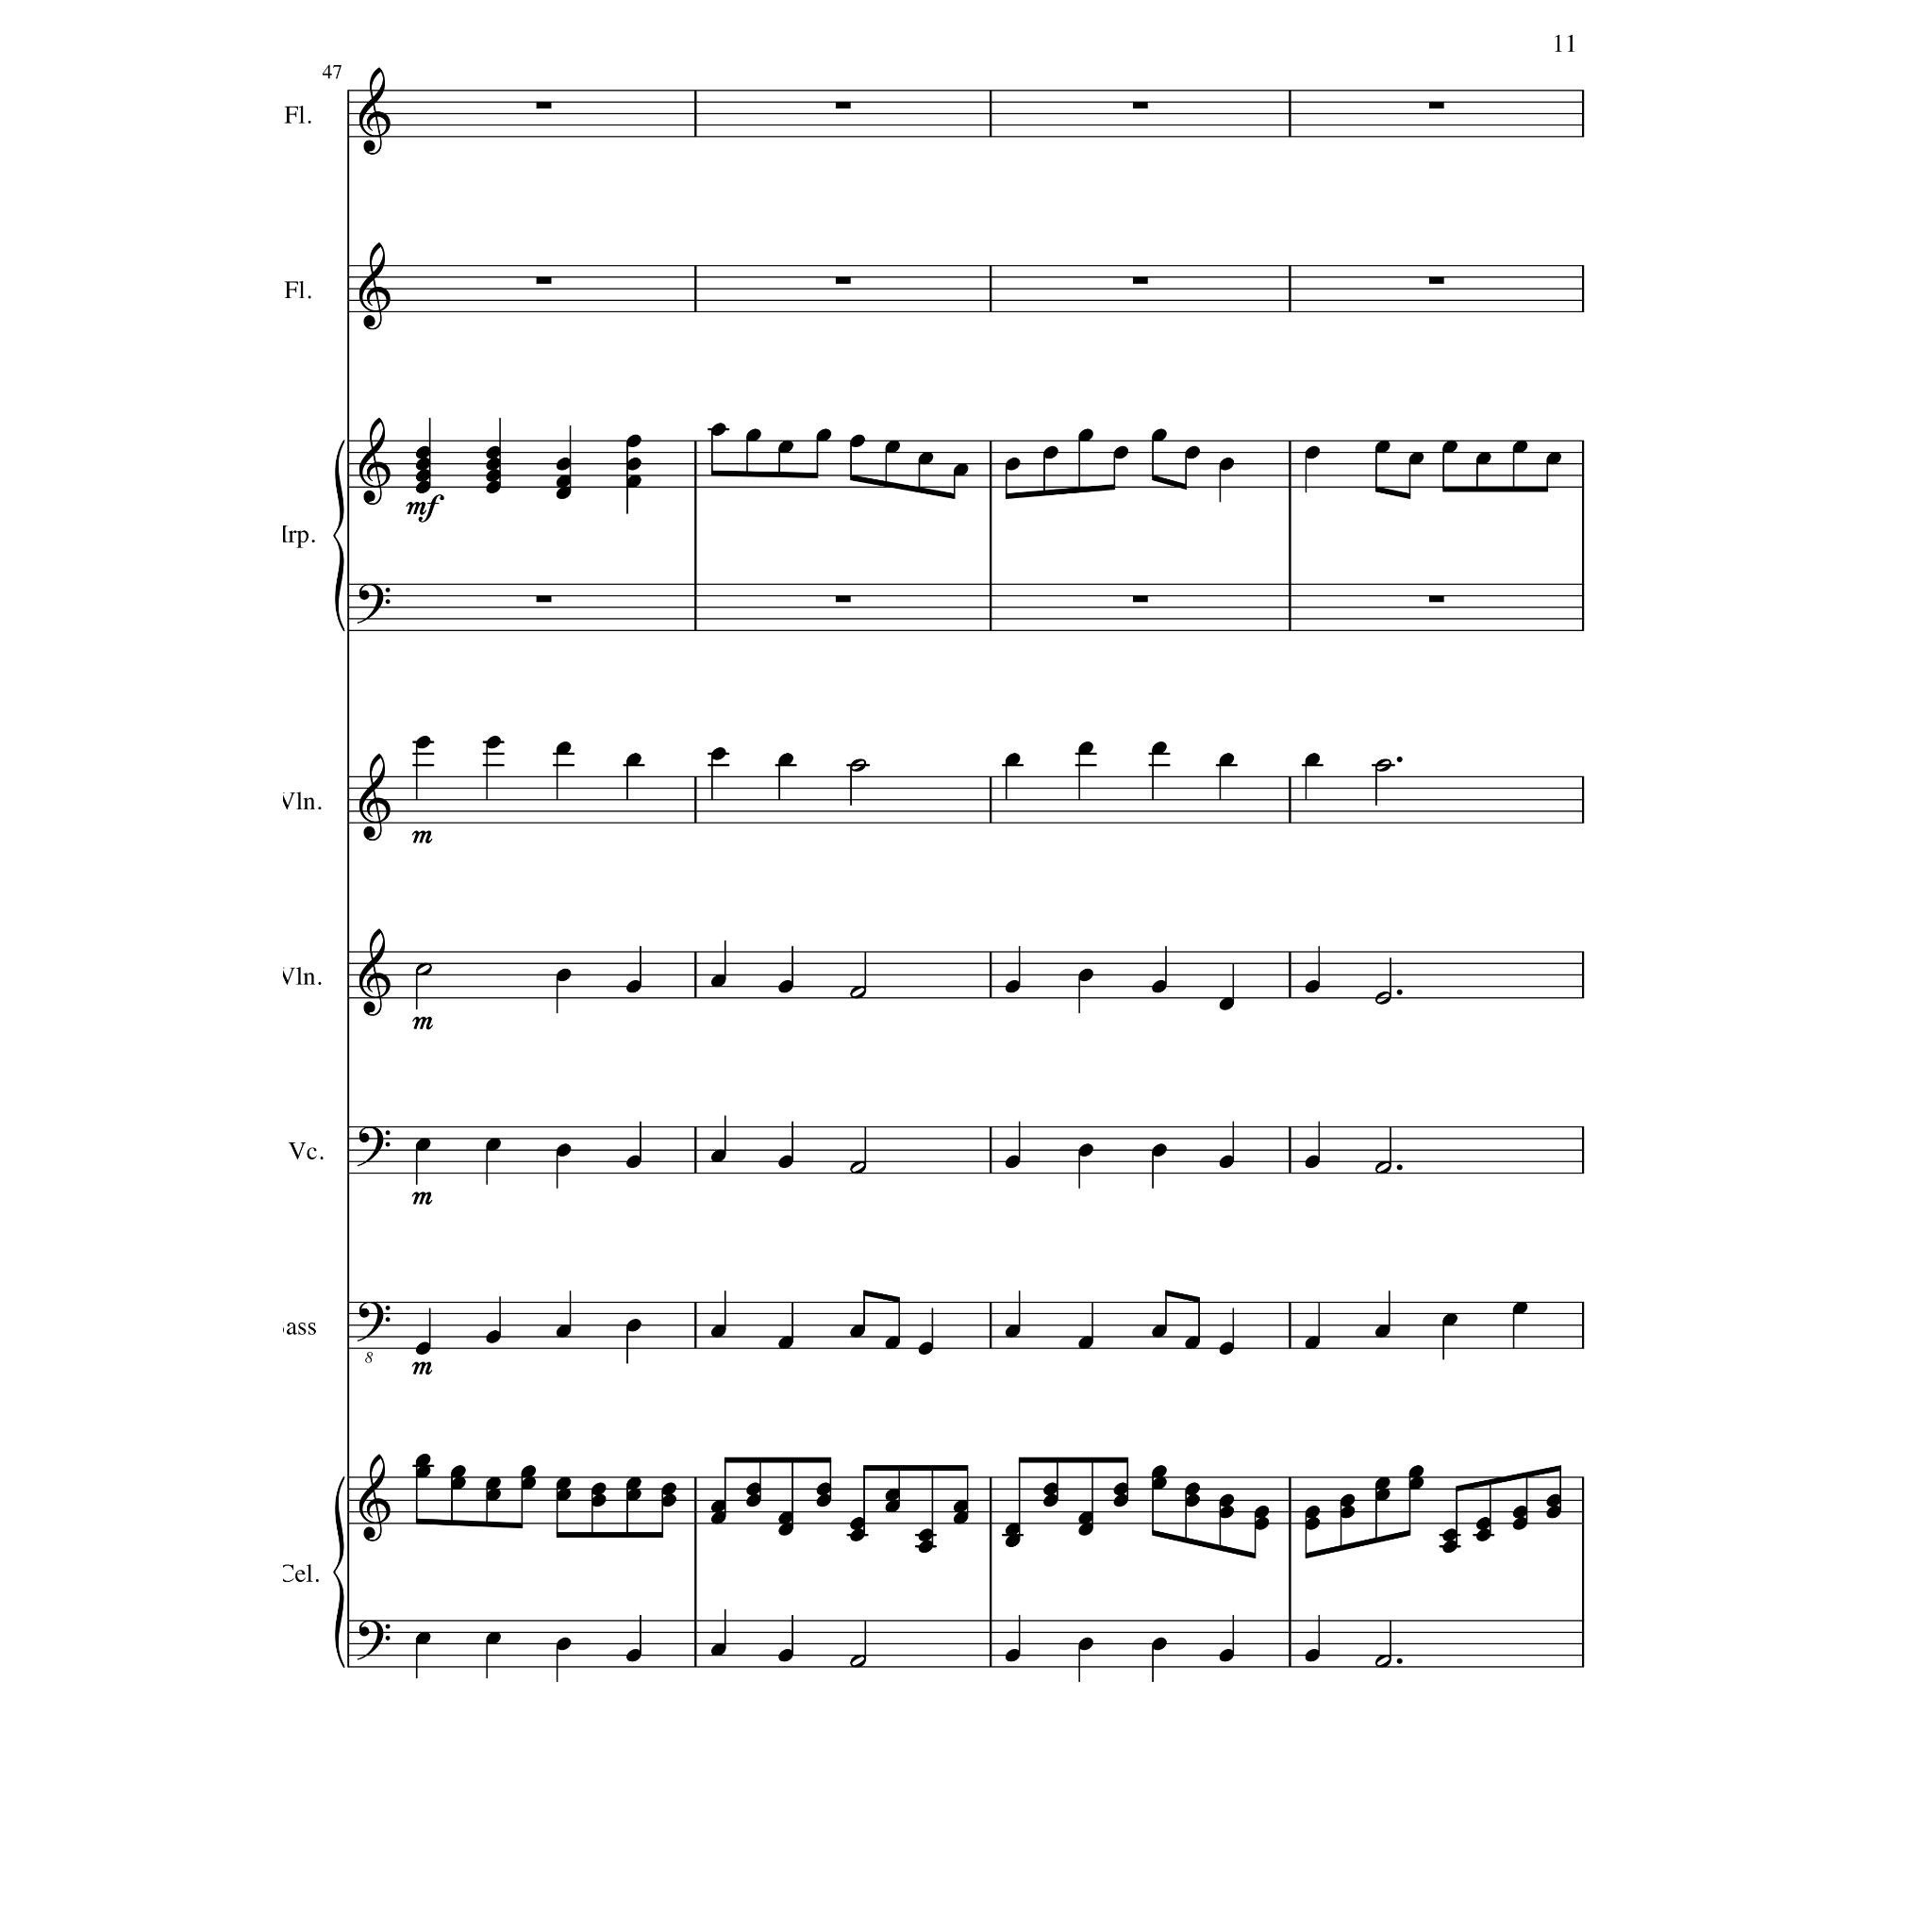brace: (332, 440, 345, 632), (332, 1476, 345, 1669)
fClef: (357, 1126, 391, 1168), (357, 583, 391, 625), (357, 1621, 391, 1660), (357, 1302, 391, 1341)
gClef: (358, 1454, 391, 1542), (358, 67, 391, 156), (358, 242, 391, 331), (358, 417, 391, 506), (358, 753, 391, 841), (358, 928, 391, 1017)
noteheadBlack: (1545, 451, 1562, 466), (1407, 451, 1424, 466), (709, 974, 726, 989), (709, 423, 726, 438), (917, 451, 934, 466), (1475, 451, 1491, 466), (1151, 429, 1168, 442), (1304, 446, 1321, 459), (1304, 753, 1321, 766), (1304, 980, 1321, 993), (1304, 1156, 1321, 1169), (1304, 1336, 1321, 1349), (1304, 1517, 1321, 1530), (1304, 1506, 1321, 1519), (1304, 1649, 1321, 1662), (1041, 446, 1058, 459), (1041, 1494, 1058, 1507), (1041, 1482, 1058, 1495), (1151, 741, 1168, 755), (1151, 980, 1168, 993), (1151, 1143, 1168, 1157), (1151, 1324, 1168, 1338), (1151, 1476, 1168, 1490), (1151, 1465, 1168, 1478), (1077, 429, 1094, 442), (1077, 741, 1094, 755), (1077, 969, 1094, 982), (1077, 1143, 1094, 1157), (1077, 1336, 1094, 1349), (1077, 1523, 1094, 1536), (1077, 1511, 1094, 1524), (1077, 1638, 1094, 1651), (1151, 1638, 1168, 1651), (1545, 1494, 1562, 1507), (1545, 1506, 1562, 1519), (1511, 441, 1528, 454), (1511, 1302, 1528, 1315), (1511, 1517, 1528, 1530), (1511, 1506, 1528, 1519), (1374, 441, 1391, 454), (1407, 1465, 1424, 1478), (1407, 1476, 1424, 1490), (1441, 441, 1458, 454), (1441, 1313, 1458, 1326), (1441, 1540, 1458, 1553), (1441, 1528, 1458, 1541), (1374, 1324, 1391, 1338), (1374, 1489, 1391, 1502), (1374, 1476, 1391, 1490), (625, 475, 641, 488), (625, 458, 641, 471), (625, 435, 641, 448), (555, 487, 572, 500), (555, 475, 572, 488), (555, 458, 572, 471), (555, 741, 572, 755), (555, 969, 572, 982), (555, 1143, 572, 1157), (555, 1324, 572, 1338), (555, 1489, 572, 1502), (555, 1476, 572, 1490), (555, 1638, 572, 1651), (709, 1324, 726, 1338), (709, 1149, 726, 1162), (709, 747, 726, 760), (709, 1511, 726, 1524), (660, 1482, 677, 1495), (660, 1494, 677, 1507), (709, 1500, 726, 1513), (709, 1643, 726, 1657), (625, 753, 641, 766), (625, 980, 641, 993), (625, 1156, 641, 1169), (625, 1319, 641, 1332), (625, 1489, 641, 1502), (625, 1476, 641, 1490), (625, 1649, 641, 1662), (485, 1489, 502, 1502), (485, 1330, 502, 1343), (485, 1138, 502, 1151), (485, 736, 502, 749), (485, 446, 502, 459), (485, 458, 502, 471), (485, 470, 502, 483), (485, 481, 502, 494), (485, 1476, 502, 1490), (485, 1632, 502, 1645), (849, 435, 866, 448), (815, 429, 832, 442), (815, 1494, 832, 1507), (815, 1482, 832, 1495), (849, 1324, 866, 1338), (849, 1528, 866, 1541), (849, 1517, 866, 1530), (1004, 458, 1021, 471), (1004, 1649, 1021, 1662), (1004, 1523, 1021, 1536), (1004, 1534, 1021, 1547), (1004, 1324, 1021, 1338), (1004, 1156, 1021, 1169), (1004, 980, 1021, 993), (1004, 753, 1021, 766), (917, 1342, 934, 1356), (917, 1540, 934, 1553), (917, 1528, 934, 1541), (745, 429, 762, 442), (777, 753, 794, 766), (777, 1156, 794, 1169), (777, 1336, 794, 1349), (777, 1523, 794, 1536), (777, 1511, 794, 1524), (777, 1649, 794, 1662), (777, 980, 794, 993), (745, 1482, 762, 1495), (745, 1494, 762, 1507), (777, 441, 794, 454), (1219, 458, 1234, 471), (1219, 753, 1234, 766), (1219, 997, 1234, 1010), (1219, 1156, 1234, 1169), (1219, 1342, 1234, 1356), (1219, 1649, 1234, 1662), (1219, 1494, 1234, 1507), (1219, 1506, 1234, 1519), (1185, 1494, 1200, 1507), (1185, 1336, 1200, 1349), (1185, 446, 1200, 459), (1185, 1482, 1200, 1495), (1254, 1517, 1269, 1530), (1254, 1506, 1269, 1519), (1113, 446, 1128, 459), (1113, 1494, 1128, 1507), (1113, 1482, 1128, 1495), (1475, 1528, 1491, 1541), (1475, 1517, 1491, 1530), (1340, 1506, 1355, 1519), (1340, 1494, 1355, 1507), (591, 1494, 606, 1507), (591, 1482, 606, 1495), (521, 1465, 536, 1478), (521, 1476, 536, 1490), (415, 481, 430, 494), (415, 470, 430, 483), (415, 458, 430, 471), (415, 446, 430, 459), (415, 736, 430, 749), (415, 1138, 430, 1151), (415, 1342, 430, 1356), (451, 1465, 466, 1478), (451, 1476, 466, 1490), (415, 1465, 430, 1478), (415, 1454, 430, 1467), (415, 1632, 430, 1645), (885, 441, 900, 454), (885, 1336, 900, 1349), (885, 1500, 900, 1513), (885, 1489, 900, 1502), (953, 463, 968, 476), (953, 1511, 968, 1524), (953, 1500, 968, 1513)
noteheadHalf: (849, 985, 866, 1000), (1374, 759, 1391, 773), (1374, 991, 1391, 1005), (1374, 1161, 1391, 1174), (1374, 1655, 1391, 1668), (415, 963, 432, 976), (849, 759, 866, 773), (849, 1161, 866, 1174), (849, 1655, 866, 1668)
restWhole: (834, 595, 851, 603), (834, 277, 851, 285), (834, 102, 851, 109), (536, 595, 551, 603), (1132, 102, 1147, 109), (1132, 277, 1147, 285), (1132, 595, 1147, 603), (536, 277, 551, 285), (536, 102, 551, 109), (1428, 102, 1443, 109), (1428, 277, 1443, 285), (1428, 595, 1443, 603)
